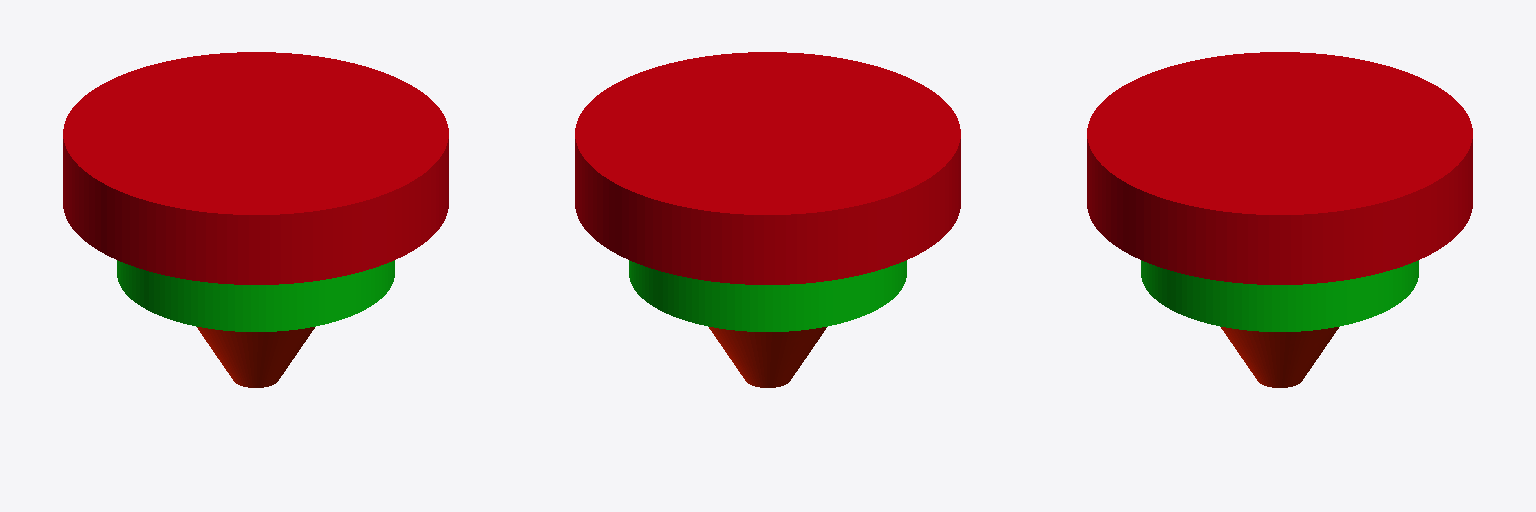
Rendered from TestBlade5.obj.
3 views of the same model, side by side, from view 1: azimuth 30°, elevation 25°; view 2: azimuth 150°, elevation 25°; view 3: azimuth 270°, elevation 25° (orthographic).
Parts seen in each view (by area): view 1: TestBlade3-1, TestBlade3-2, TestBlade3-3; view 2: TestBlade3-1, TestBlade3-2, TestBlade3-3; view 3: TestBlade3-1, TestBlade3-2, TestBlade3-3.
Part boxes in pixels (x1,y1,x2,y2): TestBlade3-1: (63,52,448,284); TestBlade3-2: (117,260,394,331); TestBlade3-3: (197,327,314,387); TestBlade3-1: (575,52,960,284); TestBlade3-2: (629,260,906,331); TestBlade3-3: (709,327,826,387); TestBlade3-1: (1087,52,1472,284); TestBlade3-2: (1141,260,1418,331); TestBlade3-3: (1221,327,1338,387).
Bounding box in the file's own units: 0.05 × 0.035 × 0.05.